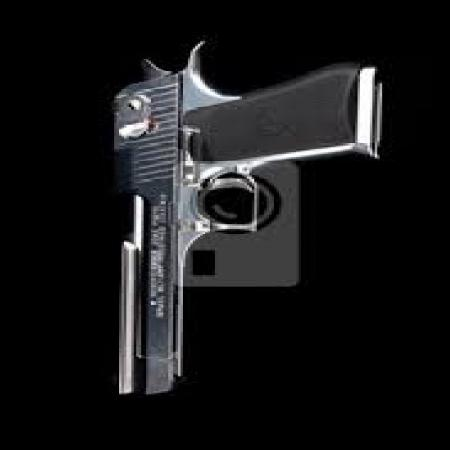Pistol: (108, 39, 384, 400)
